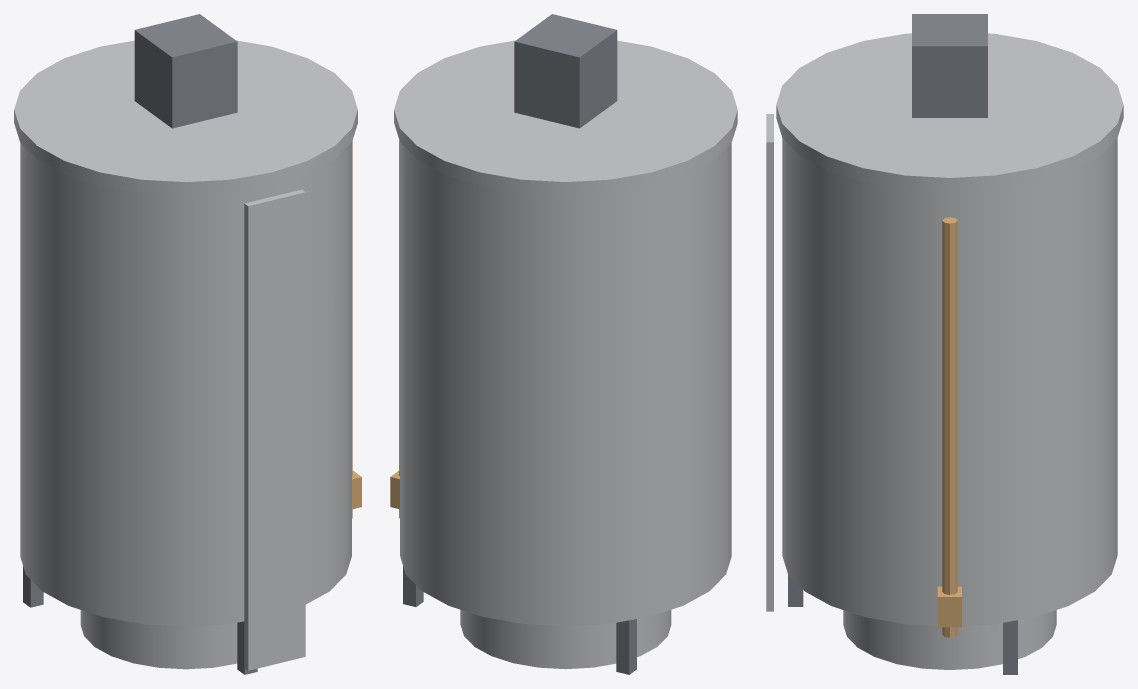
File: SM_RENDER_TANK.fbx
3 views of the same model, side by side, from view 1: azimuth 30°, elevation 25°; view 2: azimuth 150°, elevation 25°; view 3: azimuth 270°, elevation 25° (orthographic).
Parts seen in each view (by area): view 1: SM_RENDER_TANK; view 2: SM_RENDER_TANK; view 3: SM_RENDER_TANK.
Boxes of the visible parts, left/top/right/bottom form: SM_RENDER_TANK: left=14, top=14, right=361, bottom=674; SM_RENDER_TANK: left=390, top=14, right=737, bottom=674; SM_RENDER_TANK: left=766, top=14, right=1123, bottom=674.
Size of the model in its own units: 244 by 446 by 235.
